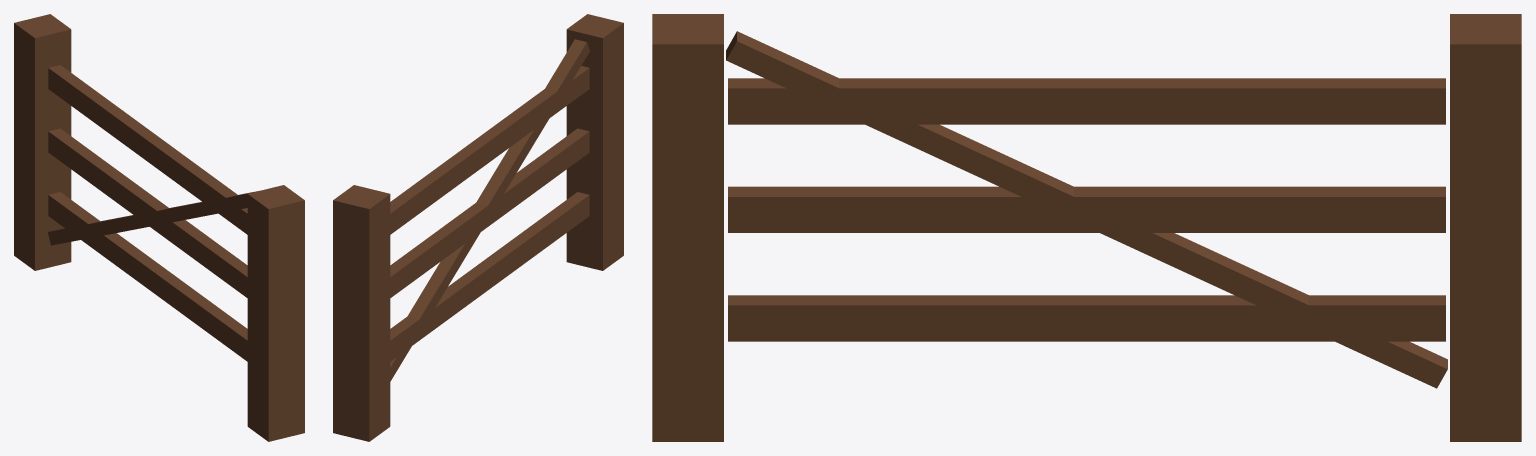
The model's file is SM_GardenGate.fbx.
The picture shows the model from 3 angles, left to right: view 1: azimuth 30°, elevation 25°; view 2: azimuth 150°, elevation 25°; view 3: azimuth 270°, elevation 25°; orthographic projection. The views are drawn at different scales.
Parts seen in each view (by area): view 1: Post_R.001, Post_L.001, Rail_1, Rail_3, Rail_2, Brace; view 2: Post_L.001, Post_R.001, Rail_3, Rail_2, Rail_1, Brace; view 3: Rail_1, Rail_2, Rail_3, Post_L.001, Post_R.001, Brace.
Boxes of the visible parts, x1,y1,x2,y2 form: Post_R.001: [247, 185, 304, 441]; Post_L.001: [14, 14, 71, 270]; Rail_1: [48, 192, 247, 361]; Rail_3: [48, 65, 247, 234]; Rail_2: [48, 128, 247, 297]; Brace: [48, 191, 256, 245]; Post_L.001: [333, 185, 390, 441]; Post_R.001: [566, 14, 623, 270]; Rail_3: [390, 66, 589, 234]; Rail_2: [390, 128, 589, 297]; Rail_1: [390, 192, 589, 361]; Brace: [390, 39, 589, 381]; Rail_1: [728, 295, 1445, 341]; Rail_2: [728, 186, 1445, 232]; Rail_3: [728, 78, 1445, 124]; Post_L.001: [1450, 14, 1521, 441]; Post_R.001: [652, 14, 723, 441]; Brace: [726, 31, 1447, 388].
Bounding box in the file's own units: 0.18 × 1.1 × 2.18.
